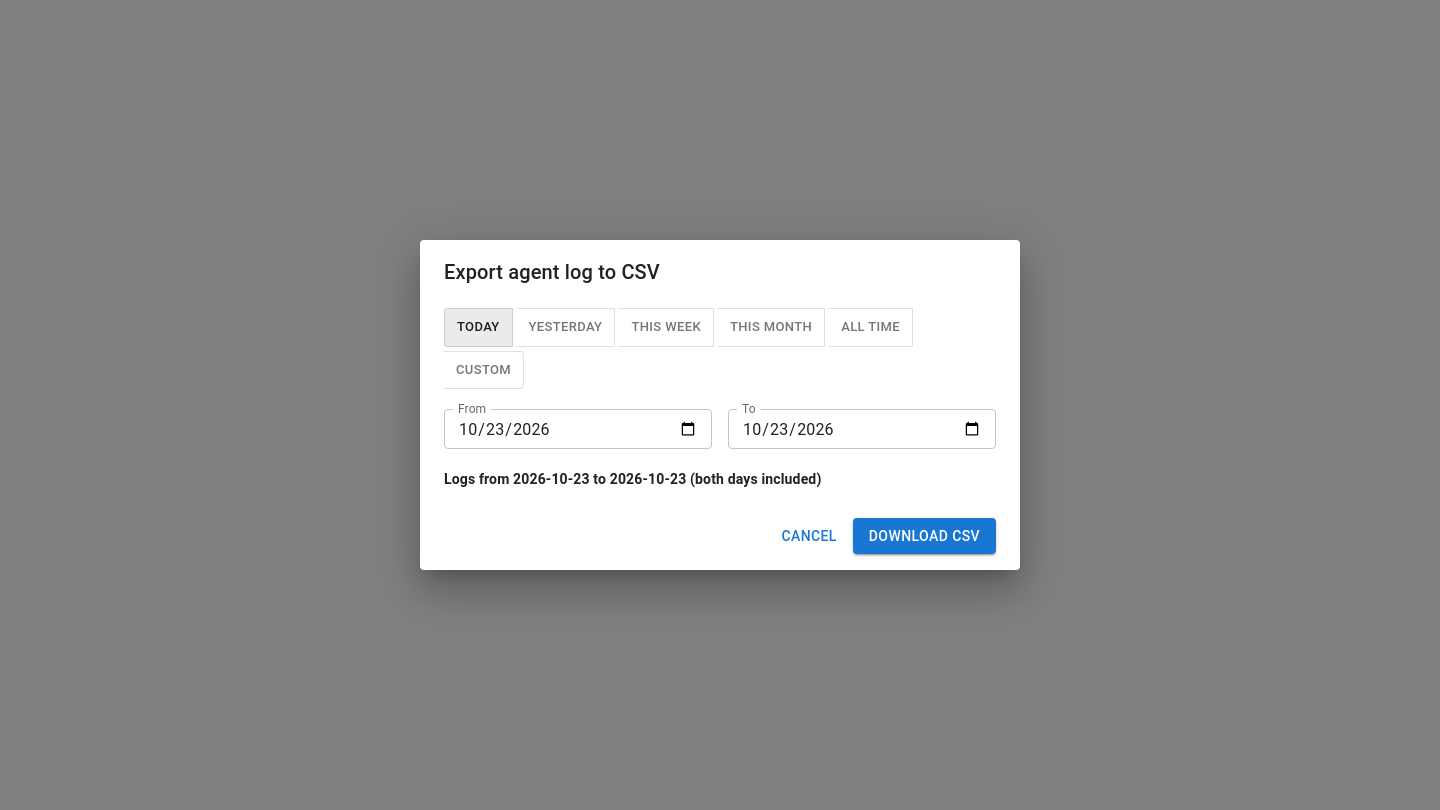
ExportCsvDialog › will not download a custom range with an end before its start
This screenshot has width=1440, height=810.
Click the button "Custom" at (484, 370), box [443,351,524,390]
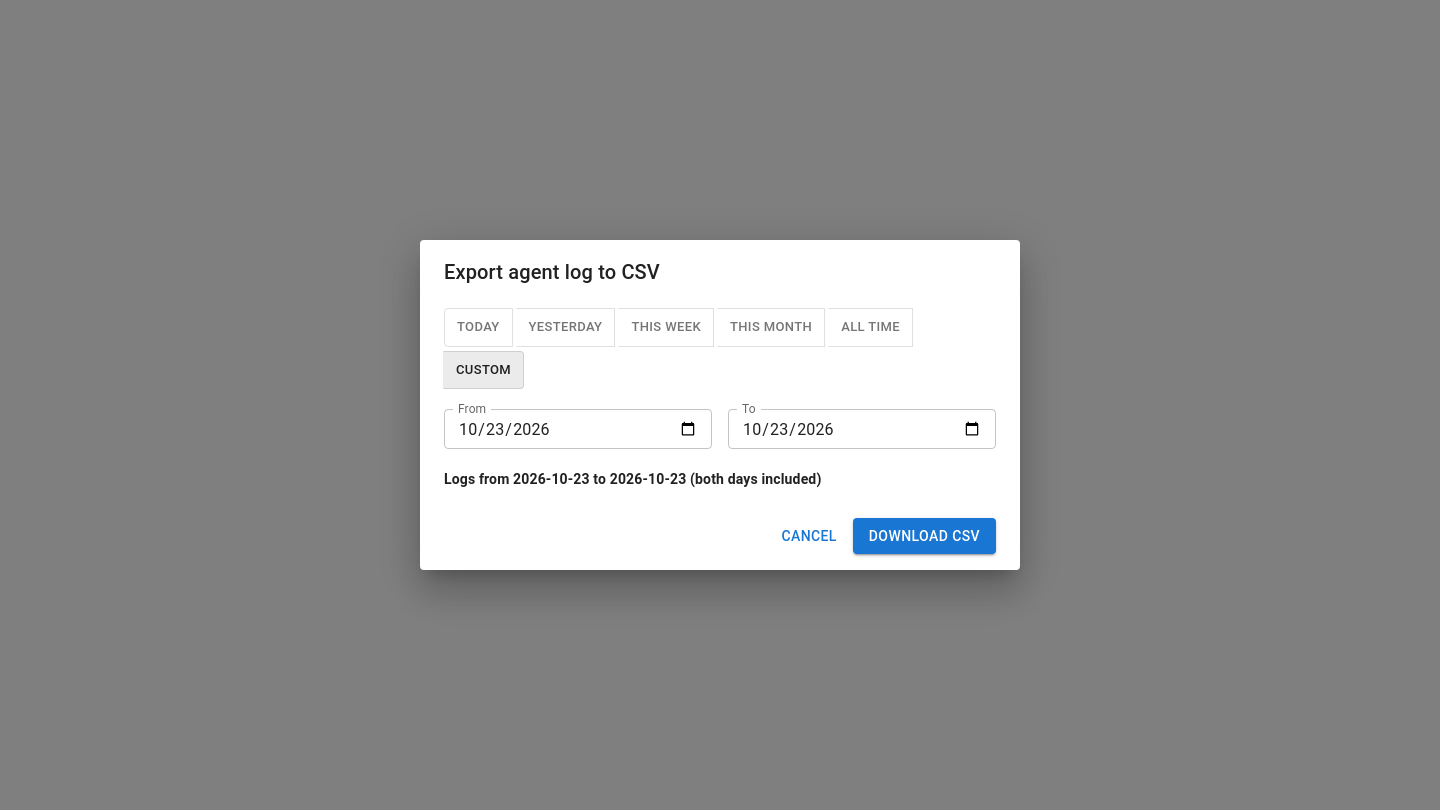
Type "2026-10-15" into the date field labelled "From" at (578, 430), box [444,410,712,450]
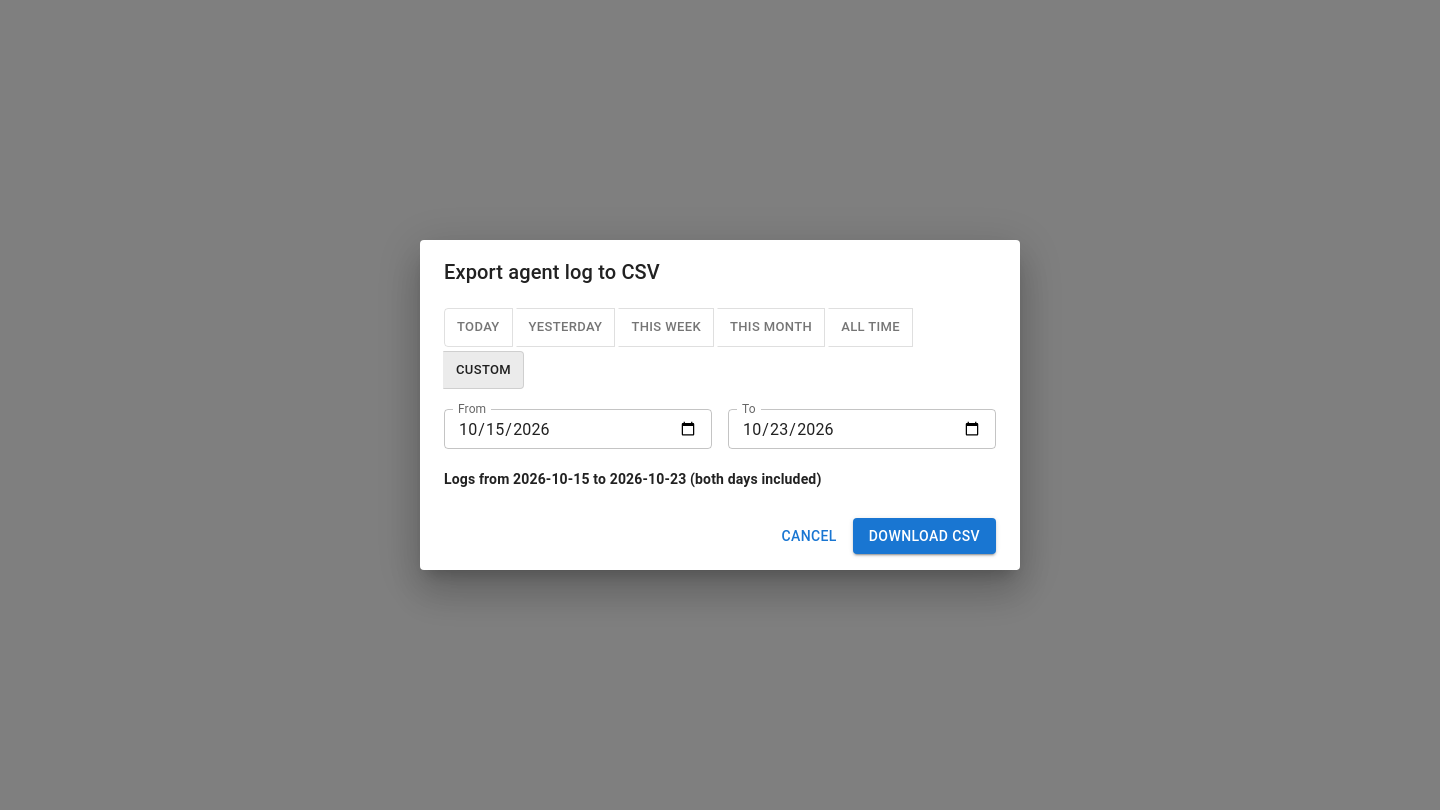
Type "2026-10-01" into the date field labelled "To" at (862, 430), box [728,410,996,450]
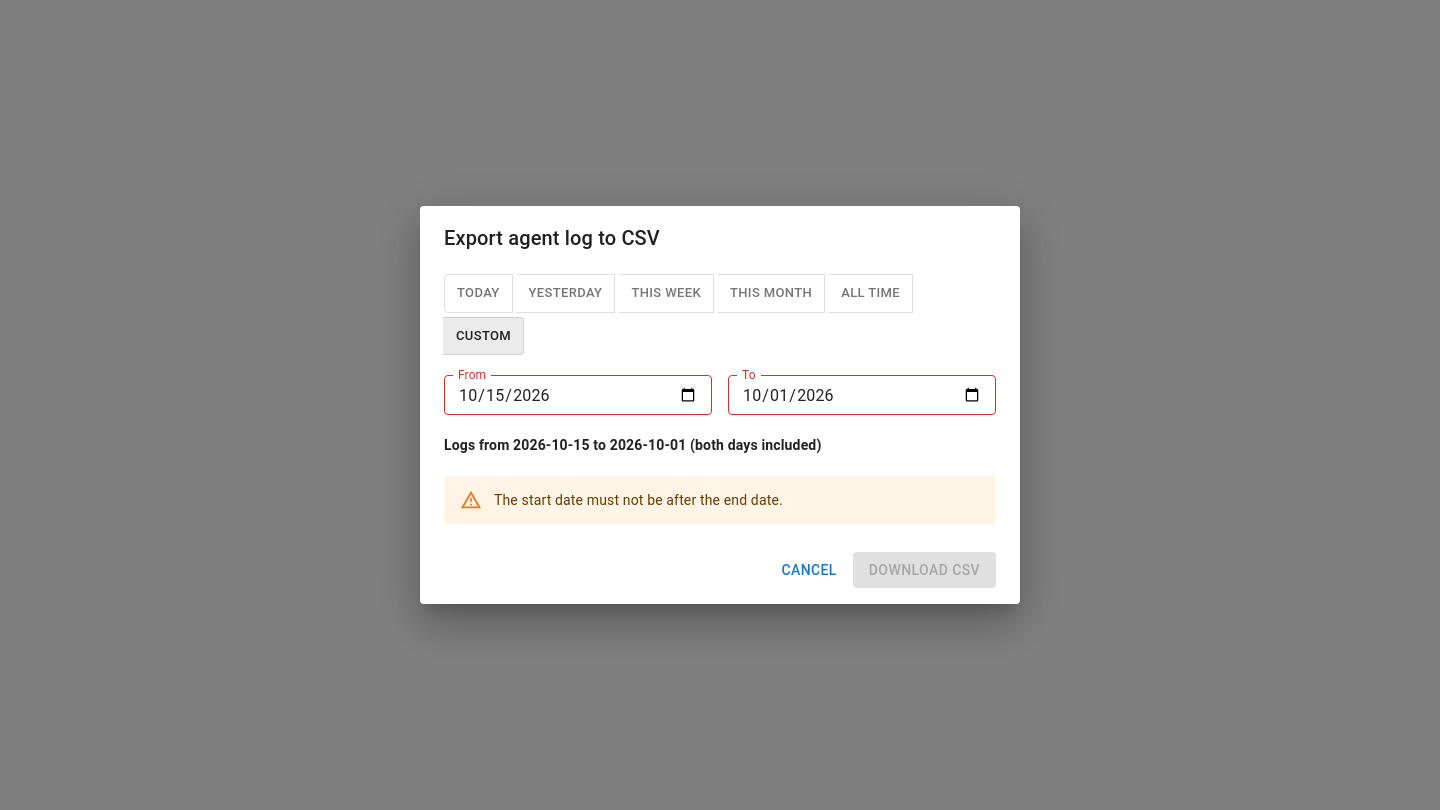
Now the text "The start date must not be after the end date." is shown, box [494,492,783,508]
Now the button "Download CSV" is disabled, box [853,552,996,588]
